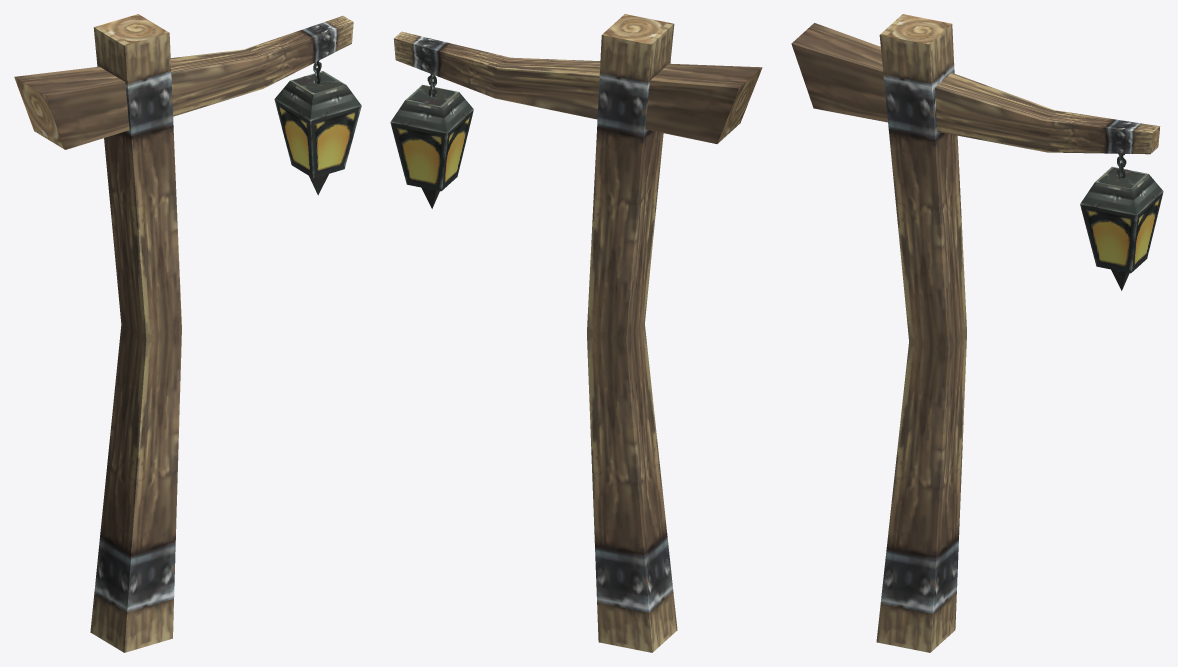
File: Z01_deng_01.FBX
3 views of the same model, side by side, from view 1: azimuth 30°, elevation 25°; view 2: azimuth 150°, elevation 25°; view 3: azimuth 330°, elevation 25° (orthographic).
Visible parts, largest first — view 1: 对象117; view 2: 对象117; view 3: 对象117.
Boxes of the visible parts, x1,y1,x2,y2 form: 对象117: (14,14,361,652); 对象117: (390,14,762,652); 对象117: (791,14,1163,652).
Bounding box in the file's own units: 142 × 243 × 33.11.
